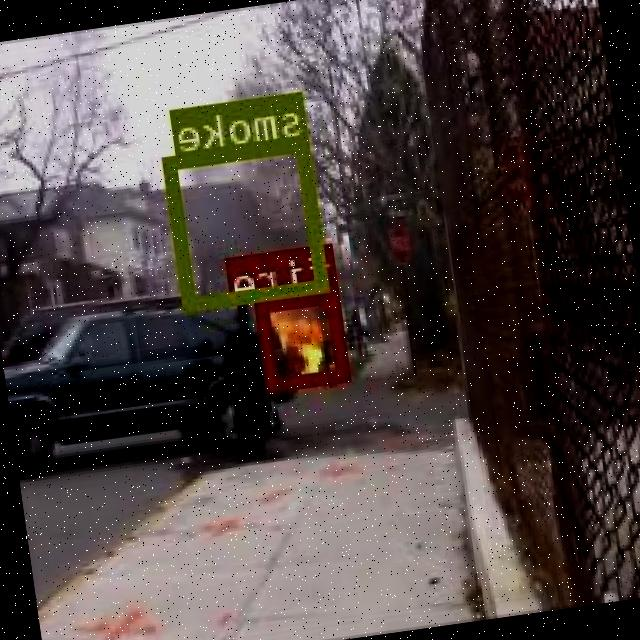fire: (258, 285, 353, 389)
smoke: (165, 135, 330, 308)
